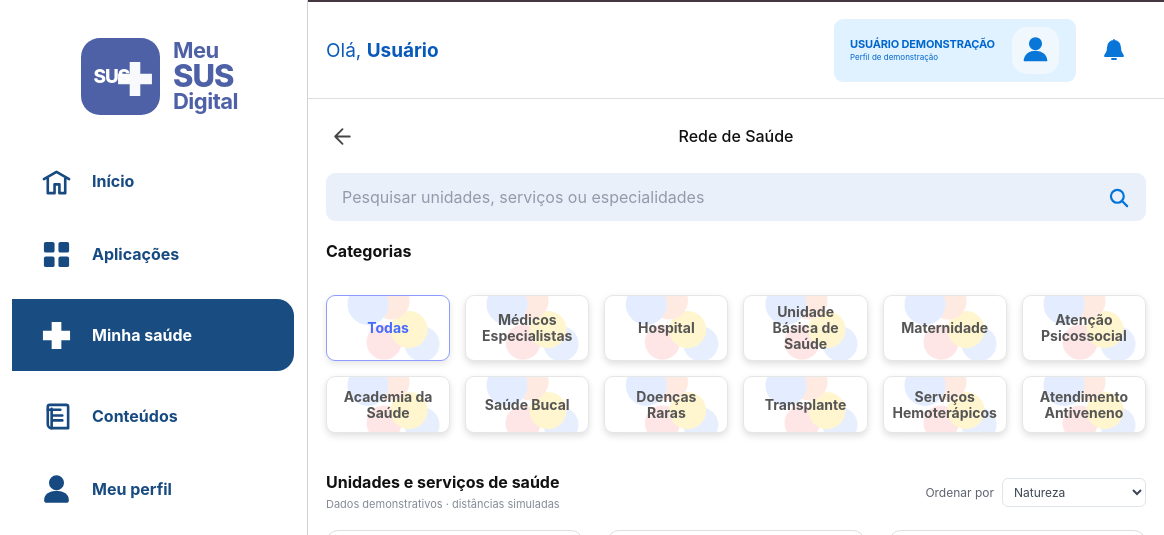
Test: navegação principal › permite alternar entre Minha saúde e Conteúdos pela sidebar
Expected: the heading "Rede de Saúde" is shown, [678, 126, 794, 146]
Click the button "Conteúdos": (153, 416) [12, 388, 294, 444]
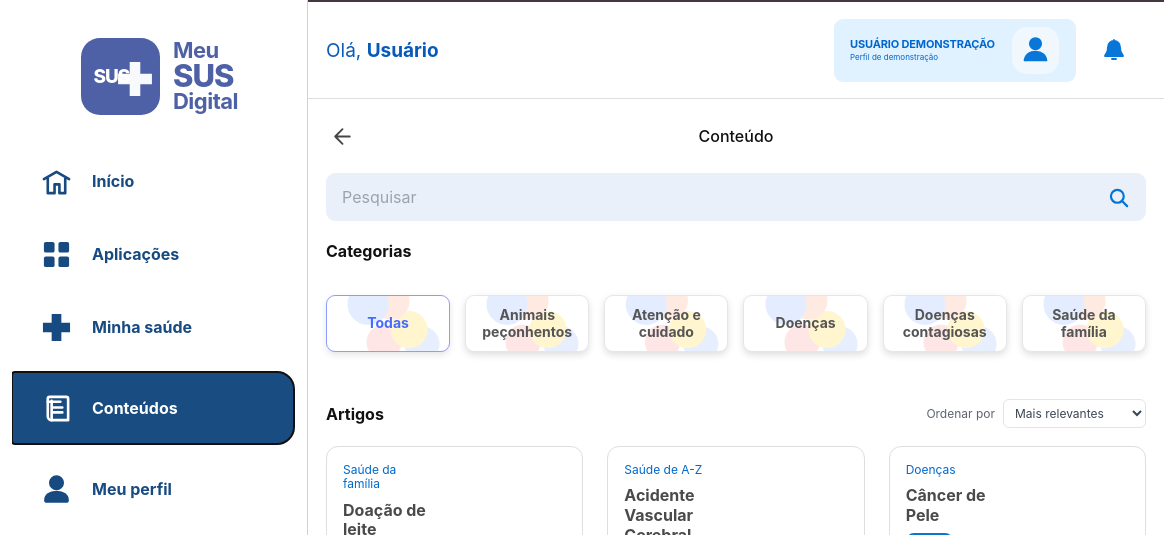
Result: the heading "Conteúdo" is shown at [698, 126, 773, 146]
Click the button "Minha saúde": (153, 327) [12, 299, 294, 355]
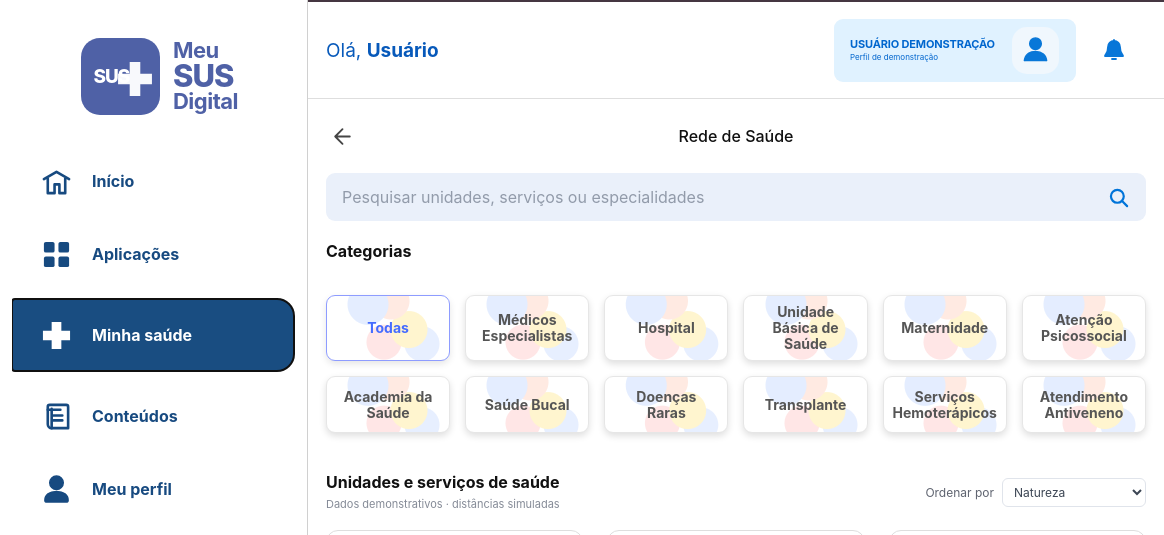
Result: the heading "Rede de Saúde" is shown at [678, 126, 794, 146]
